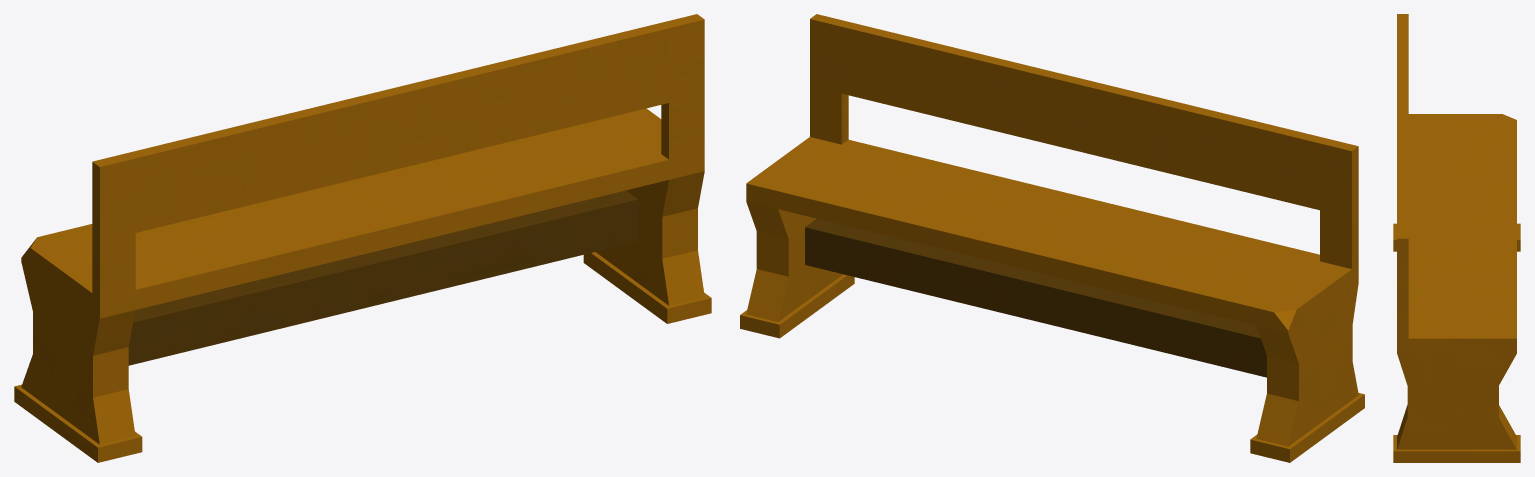
Rendered from Bench_2.fbx.
3 renders of one model, left to right at view 1: azimuth 30°, elevation 25°; view 2: azimuth 150°, elevation 25°; view 3: azimuth 270°, elevation 25°, orthographic. The views are drawn at different scales.
Parts seen in each view (by area): view 1: Bench 2; view 2: Bench 2; view 3: Bench 2.
Boxes of the visible parts, box(x1,y1,x2,y2) form: Bench 2: box(14, 14, 711, 462); Bench 2: box(740, 14, 1364, 462); Bench 2: box(1393, 14, 1520, 462).
Bounding box in the file's own units: 230 × 105 × 54.42.
